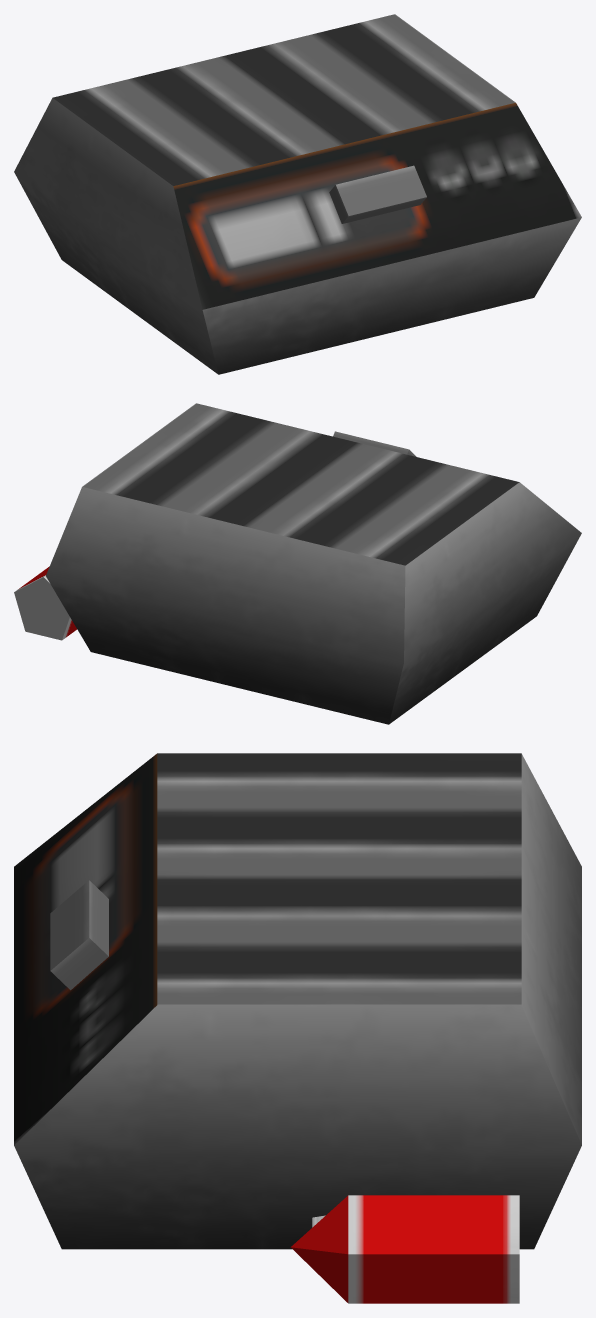
File: Portable_Grill.fbx
The picture shows the model from 3 angles, top to bottom: view 1: azimuth 30°, elevation 25°; view 2: azimuth 150°, elevation 25°; view 3: azimuth 270°, elevation 25°; orthographic projection. The views are drawn at different scales.
Visible parts, largest first — view 1: Portable_Grill_1; view 2: Portable_Grill_1; view 3: Portable_Grill_1.
Part boxes in pixels (left/top/right/bottom): Portable_Grill_1: left=14, top=14, right=581, bottom=374; Portable_Grill_1: left=14, top=403, right=581, bottom=724; Portable_Grill_1: left=14, top=753, right=581, bottom=1303.
Size of the model in its own units: 66 by 24.53 by 49.71.
